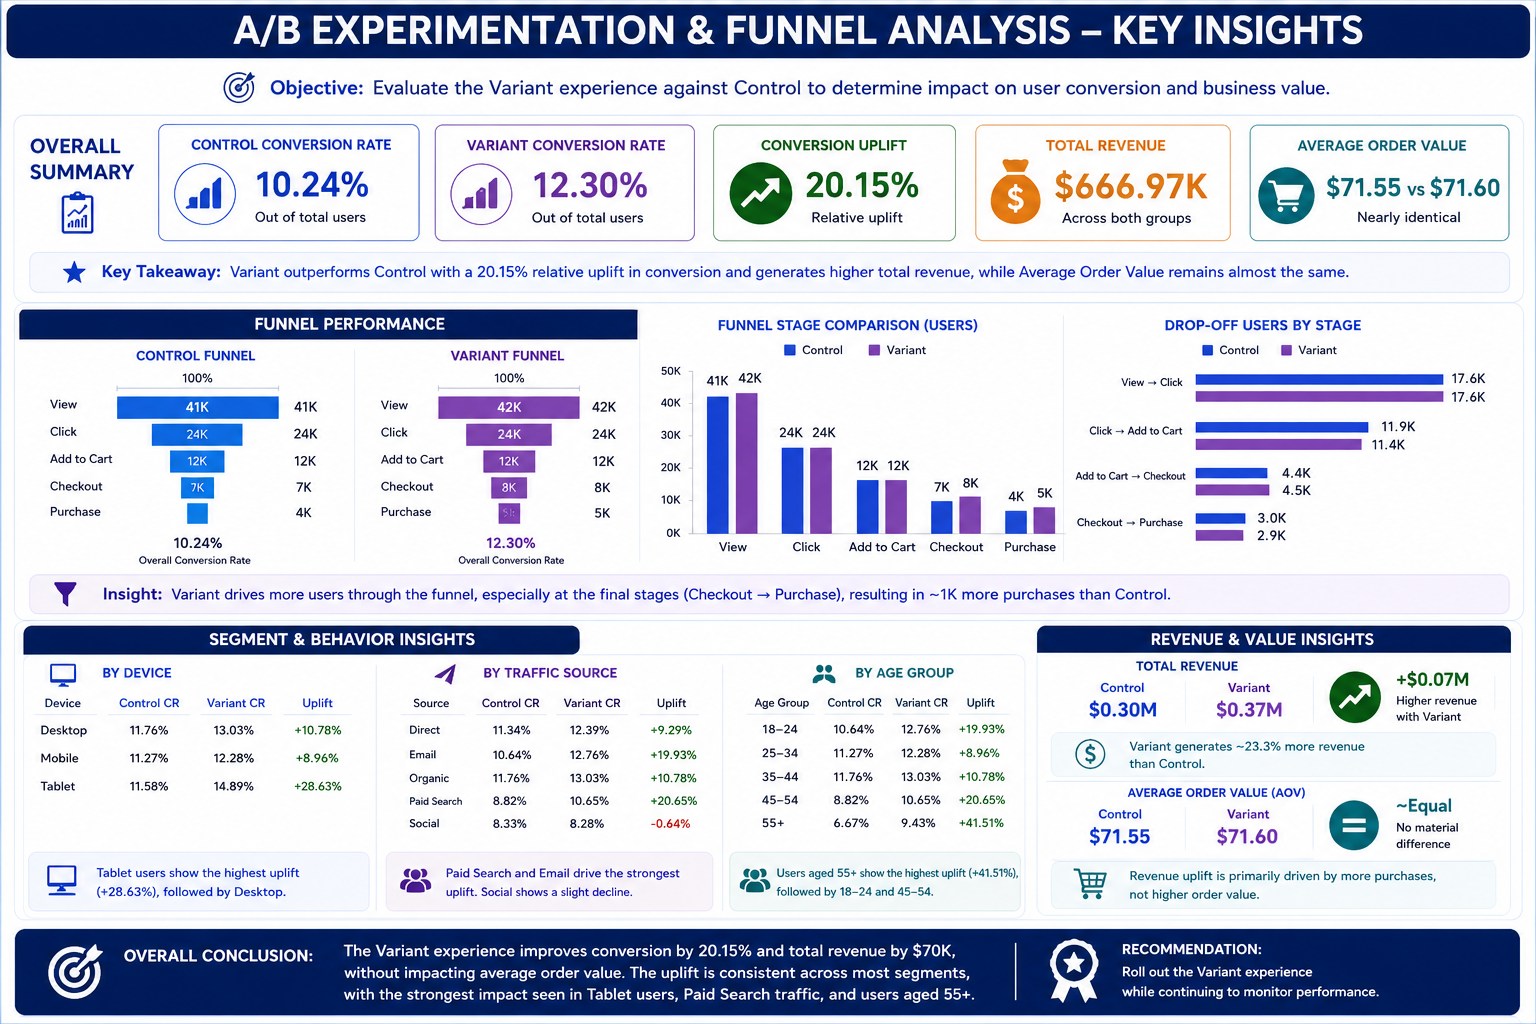

The dashboard page shown, as its layout file describes it:
{"tool":"powerbi","page":{"name":"Page 1","canvas":[1280,720],"ordinal":0},"visuals":[{"type":"textbox","box":[0,0,1280.3,63.1],"z":0},{"type":"card","title":"Control Conversion Rate","fields":{"Values":["public ab_experiment_users.Overall_Conversion_Rate"]},"box":[175.9,78.5,238,98.7],"z":1000},{"type":"card","title":"Variant Conversion Rate","fields":{"Values":["public ab_experiment_users.Overall_Conversion_Rate"]},"box":[439.2,78.5,251.9,98.7],"z":2000},{"type":"card","title":"Conversion Uplift","fields":{"Values":["public ab_experiment_users.Conversion_Uplift"]},"box":[715.2,78.5,249.4,98.7],"z":3000},{"type":"card","title":"Total Revenue","fields":{"Values":["public ab_experiment_users.Total_Revenue"]},"box":[989.9,78.5,270.9,98.7],"z":4000},{"type":"funnel","title":"Control Funnel","fields":{"Category":["public ab_experiment_users_Funnel.funnel_stage"],"Y":["Sum(public ab_experiment_users_Funnel.stage_reached)"]},"box":[197.5,197.5,355.7,234.2],"z":5000},{"type":"funnel","title":"Variant Funnel","fields":{"Category":["public ab_experiment_users_Funnel.funnel_stage"],"Y":["Sum(public ab_experiment_users_Funnel.stage_reached)"]},"box":[553.2,198.7,348.1,234.2],"z":6000},{"type":"clusteredColumnChart","title":"Funnel Stage Comparison","fields":{"Category":["public ab_experiment_users_Funnel.funnel_stage"],"Y":["Sum(public ab_experiment_users_Funnel.stage_reached)"],"Series":["public ab_experiment_users_Funnel.experiment_group"]},"box":[918,197.5,359,255],"z":7000},{"type":"clusteredColumnChart","title":"Conversion Rate — Control vs Variant","fields":{"Category":["public ab_experiment_users.experiment_group"],"Y":["public ab_experiment_users.Overall_Conversion_Rate"]},"box":[175.9,453.2,303.8,265.8],"z":8000},{"type":"clusteredColumnChart","title":"Drop Off Users by funnel_stage ","fields":{"Category":["public ab_experiment_users_Funnel.funnel_stage"],"Y":["public ab_experiment_users.Drop_Off_Users"],"Series":["public ab_experiment_users.experiment_group"]},"box":[479.7,453.2,373.4,267.1],"z":9000},{"type":"columnChart","title":"Total Revenue ","fields":{"Category":["public ab_experiment_users.experiment_group"],"Y":["public ab_experiment_users.Total_Revenue"]},"box":[853.2,453.2,208.9,265.8],"z":10000},{"type":"columnChart","title":"Average Order Value — Control vs Variant","fields":{"Category":["public ab_experiment_users.experiment_group"],"Y":["public ab_experiment_users.Average_Order_Value"]},"box":[1053.2,451.9,226.6,267.1],"z":11000},{"type":"slicer","fields":{"Values":["public ab_experiment_users.experiment_group"]},"box":[0,78.5,167.1,119],"z":12000},{"type":"slicer","fields":{"Values":["public ab_experiment_users.device"]},"box":[0,197.5,167.1,169.6],"z":13000},{"type":"slicer","fields":{"Values":["public ab_experiment_users.traffic_source"]},"box":[0,367.1,167.1,172.2],"z":14000},{"type":"slicer","fields":{"Values":["public ab_experiment_users.age_group"]},"box":[0,539.2,167.1,181],"z":15000}]}

Visuals, with their boxes on the page's 1280x720 design canvas (x1, y1, x2, y2). These are canvas units, not pixel positions in the 1536x1024 screenshot, which may show the page scaled, cropped or inside an application window:
textbox: 0, 0, 1280, 63
"Control Conversion Rate" card: 176, 78, 414, 177
"Variant Conversion Rate" card: 439, 78, 691, 177
"Conversion Uplift" card: 715, 78, 965, 177
"Total Revenue" card: 990, 78, 1261, 177
"Control Funnel" funnel: 198, 198, 553, 432
"Variant Funnel" funnel: 553, 199, 901, 433
"Funnel Stage Comparison" clusteredColumnChart: 918, 198, 1277, 452
"Conversion Rate — Control vs Variant" clusteredColumnChart: 176, 453, 480, 719
"Drop Off Users by funnel_stage " clusteredColumnChart: 480, 453, 853, 720
"Total Revenue " columnChart: 853, 453, 1062, 719
"Average Order Value — Control vs Variant" columnChart: 1053, 452, 1280, 719
slicer - public ab_experiment_users.experiment_group: 0, 78, 167, 198
slicer - public ab_experiment_users.device: 0, 198, 167, 367
slicer - public ab_experiment_users.traffic_source: 0, 367, 167, 539
slicer - public ab_experiment_users.age_group: 0, 539, 167, 720
